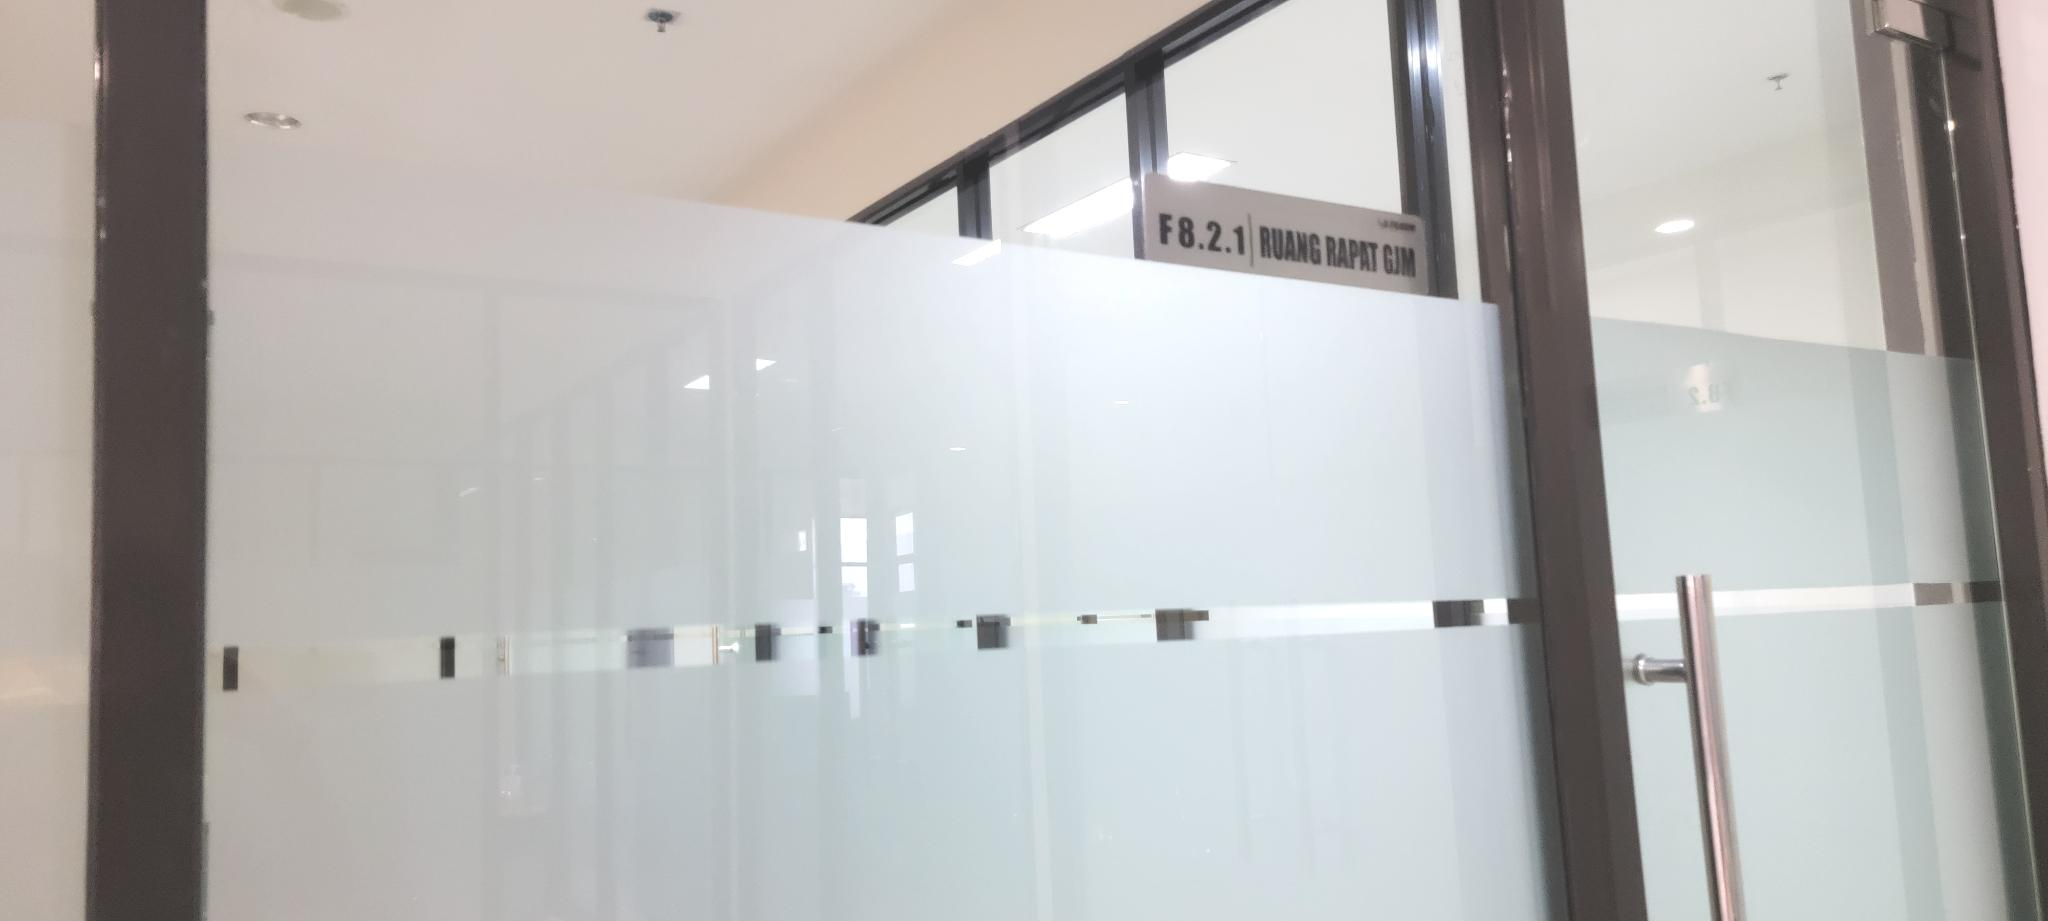plate: (1142, 172, 1429, 298)
